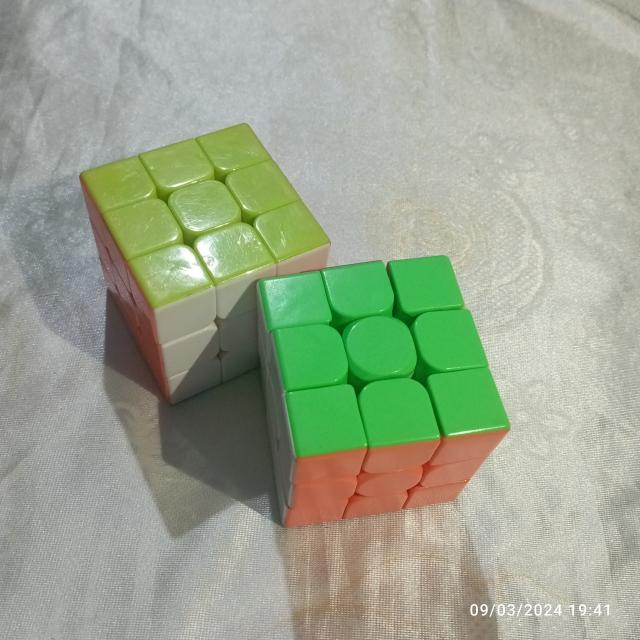Rub: (68, 116, 338, 413), (248, 246, 514, 533)
